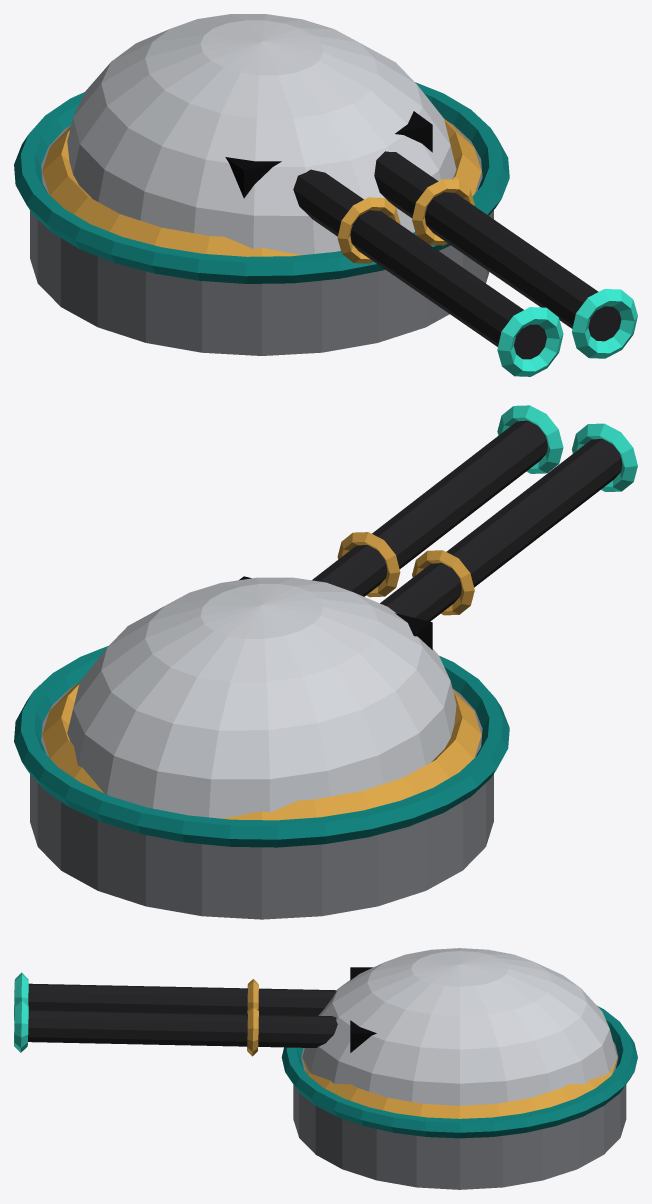
The model's file is turret.obj.
The picture shows the model from 3 angles, top to bottom: view 1: azimuth 30°, elevation 25°; view 2: azimuth 150°, elevation 25°; view 3: azimuth 270°, elevation 25°; orthographic projection. The views are drawn at different scales.
Parts seen in each view (by area): view 1: turret; view 2: turret; view 3: turret.
Boxes of the visible parts, x1=… form: turret: x1=14, y1=14, x2=637, y2=376; turret: x1=14, y1=405, x2=637, y2=919; turret: x1=14, y1=948, x2=637, y2=1189.
Bounding box in the file's own units: 22.84 × 13.18 × 40.
Materials: 1 (1 with a texture image).
